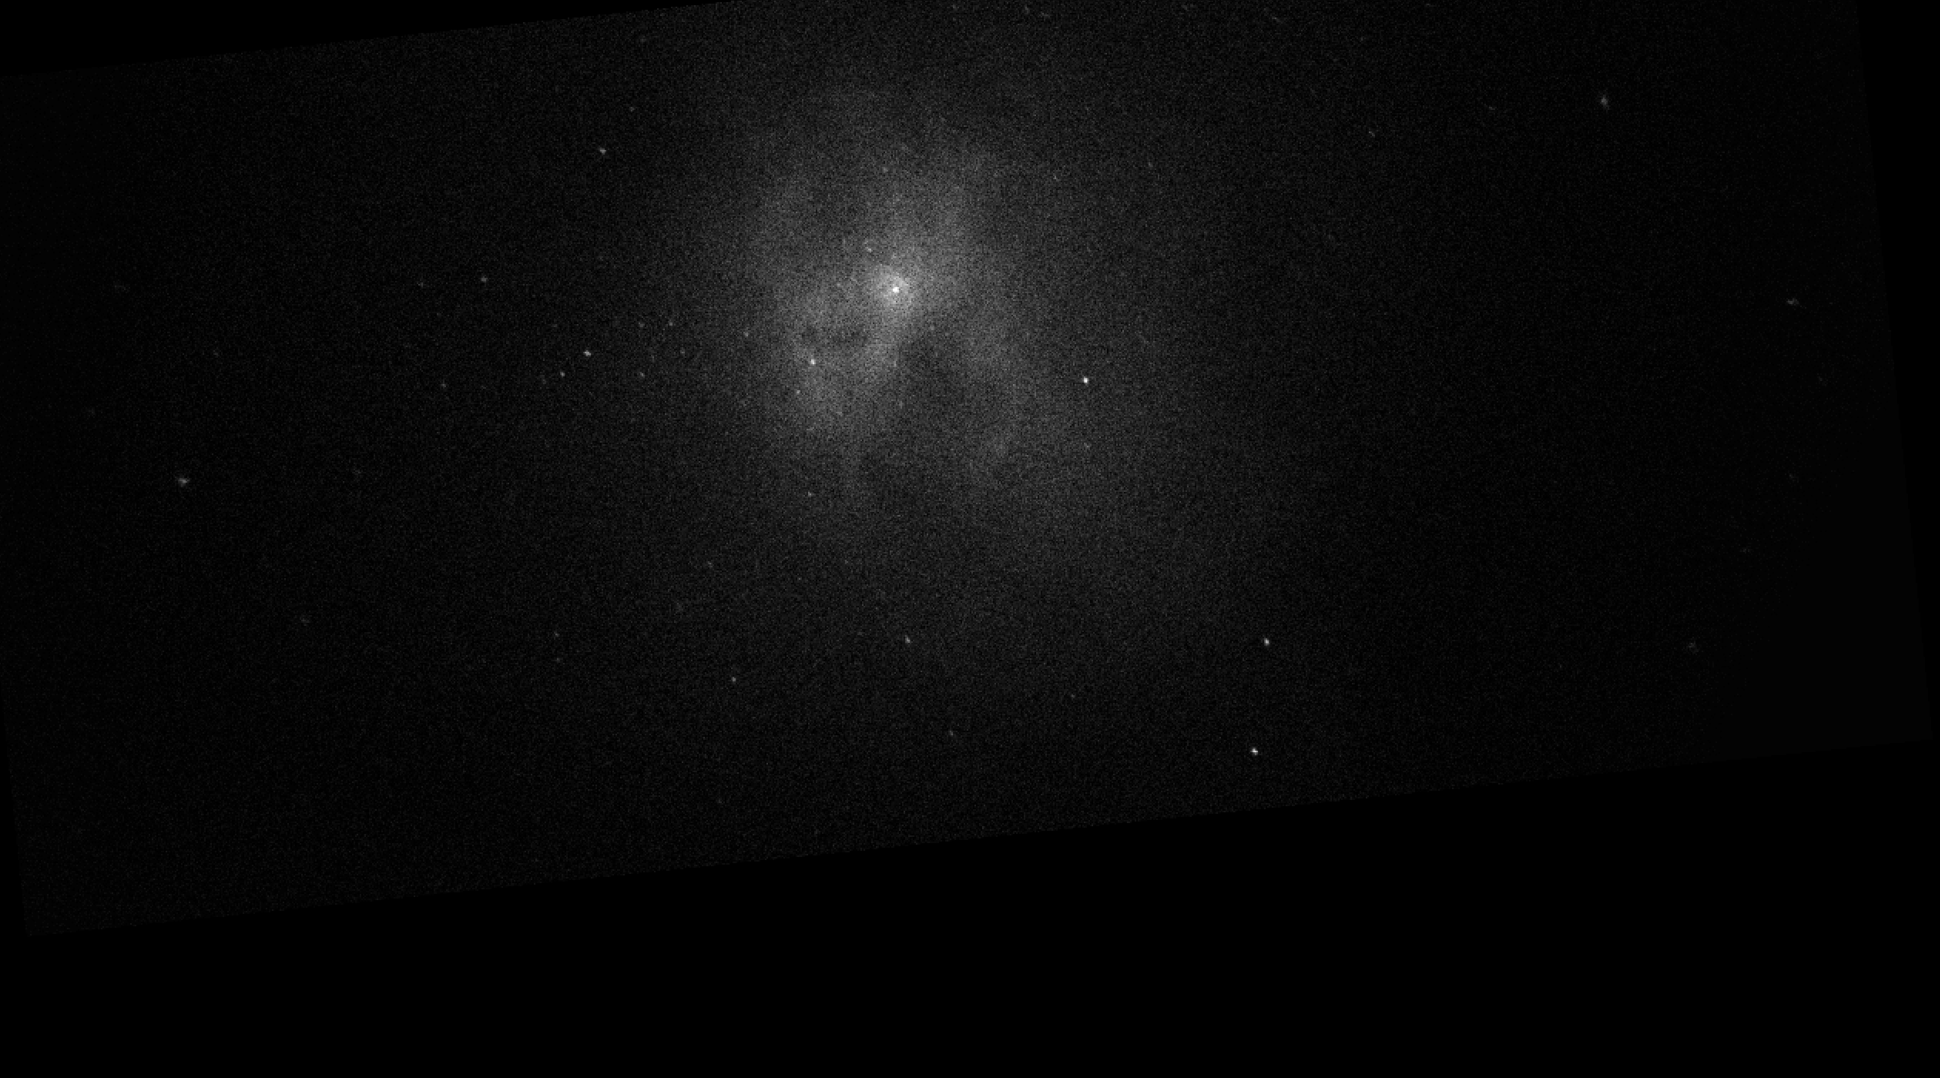Cavity: (884, 317, 1027, 445), (764, 161, 893, 266), (796, 320, 870, 352), (909, 195, 939, 251), (878, 277, 893, 292)
Galaxy: (702, 94, 1067, 495)
